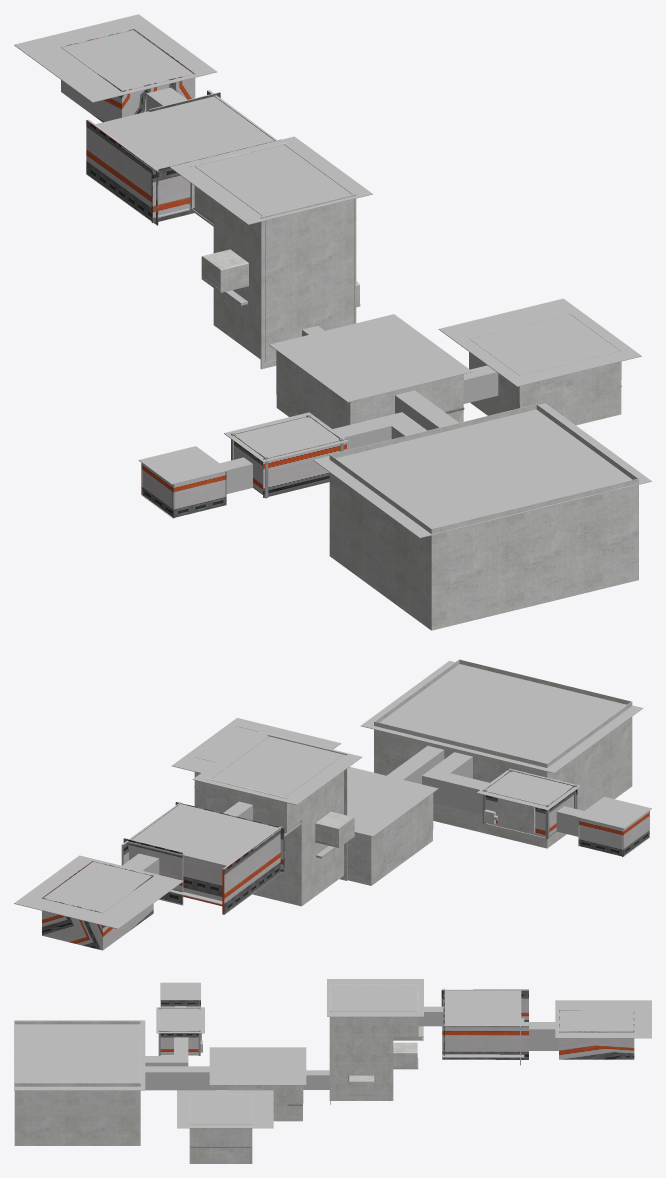
Rendered from apaLegataPeretiReali.fbx.
The picture shows the model from 3 angles, top to bottom: view 1: azimuth 30°, elevation 25°; view 2: azimuth 150°, elevation 25°; view 3: azimuth 270°, elevation 25°; orthographic projection. The views are drawn at different scales.
Visible parts, largest first — view 1: perete.006; view 2: perete.006; view 3: perete.006.
Part boxes in pixels (x1,y1,x2,y2): perete.006: (14,14,651,630); perete.006: (14,659,651,950); perete.006: (14,979,651,1163).
Bounding box in the file's own units: 9097 × 3688 × 16860.
